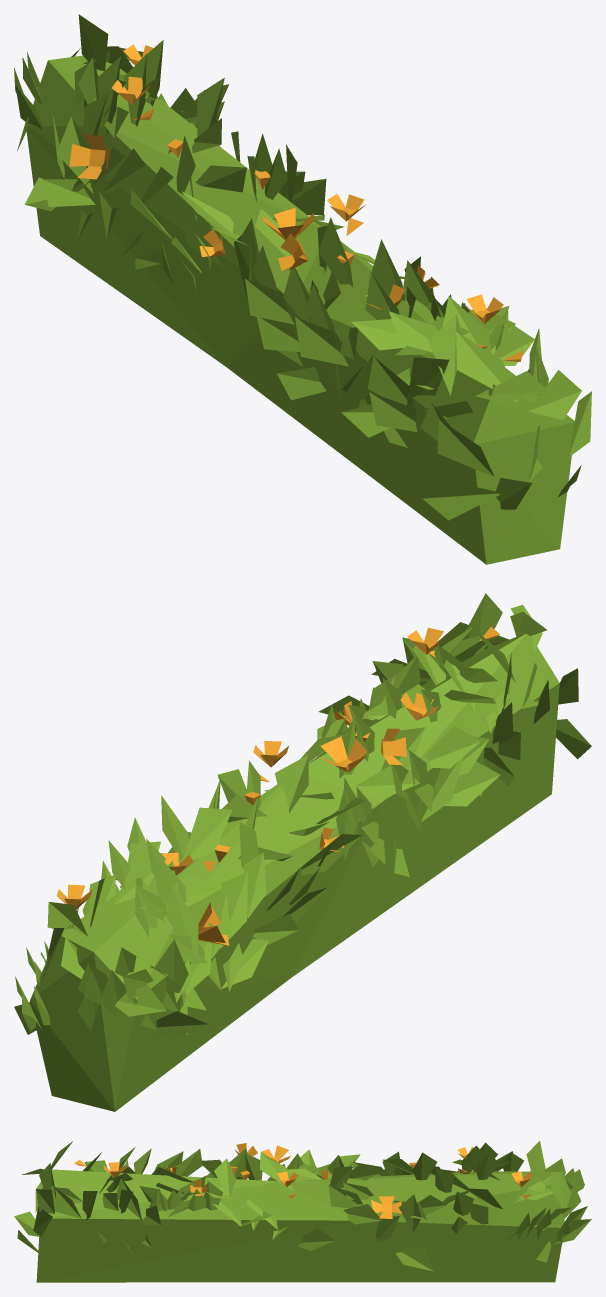
File: SM_Fence_Hedge_City_Short_Flower_2m.fbx
The picture shows the model from 3 angles, top to bottom: view 1: azimuth 30°, elevation 25°; view 2: azimuth 150°, elevation 25°; view 3: azimuth 270°, elevation 25°; orthographic projection. The views are drawn at different scales.
Visible parts, largest first — view 1: SM_Fence_Hedge_City_Short_Flower_2m; view 2: SM_Fence_Hedge_City_Short_Flower_2m; view 3: SM_Fence_Hedge_City_Short_Flower_2m.
Part boxes in pixels (x1=…): SM_Fence_Hedge_City_Short_Flower_2m: x1=14, y1=14, x2=591, y2=564; SM_Fence_Hedge_City_Short_Flower_2m: x1=14, y1=593, x2=591, y2=1111; SM_Fence_Hedge_City_Short_Flower_2m: x1=14, y1=1141, x2=591, y2=1282.
Bounding box in the file's own units: 0.4977 × 0.5703 × 2.29.
